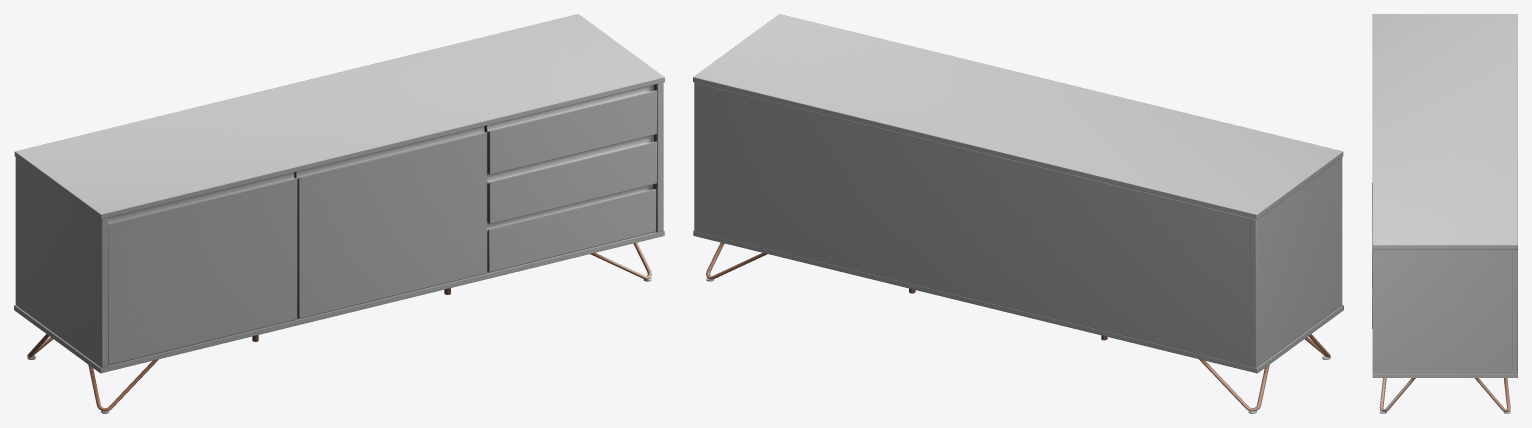
The model's file is sidetable.6377702c.glb.
3 views of the same model, side by side, from view 1: azimuth 30°, elevation 25°; view 2: azimuth 150°, elevation 25°; view 3: azimuth 270°, elevation 25° (orthographic). The views are drawn at different scales.
Parts seen in each view (by area): view 1: WHITE_GLOSS, CHROME; view 2: WHITE_GLOSS, CHROME; view 3: WHITE_GLOSS, CHROME.
Boxes of the visible parts, left/top/right/bottom form: WHITE_GLOSS: left=14, top=14, right=664, bottom=373; CHROME: left=27, top=242, right=651, bottom=411; WHITE_GLOSS: left=693, top=14, right=1343, bottom=373; CHROME: left=706, top=242, right=1330, bottom=411; WHITE_GLOSS: left=1372, top=14, right=1517, bottom=377; CHROME: left=1379, top=378, right=1510, bottom=411.
Size of the model in its own units: 4.38 by 1.52 by 1.17.
3 materials, 3 textured.
